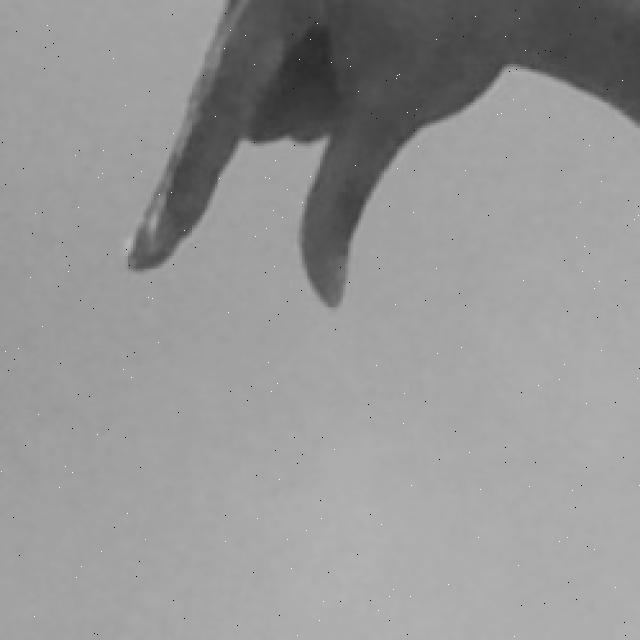Q: (115, 0, 640, 312)
